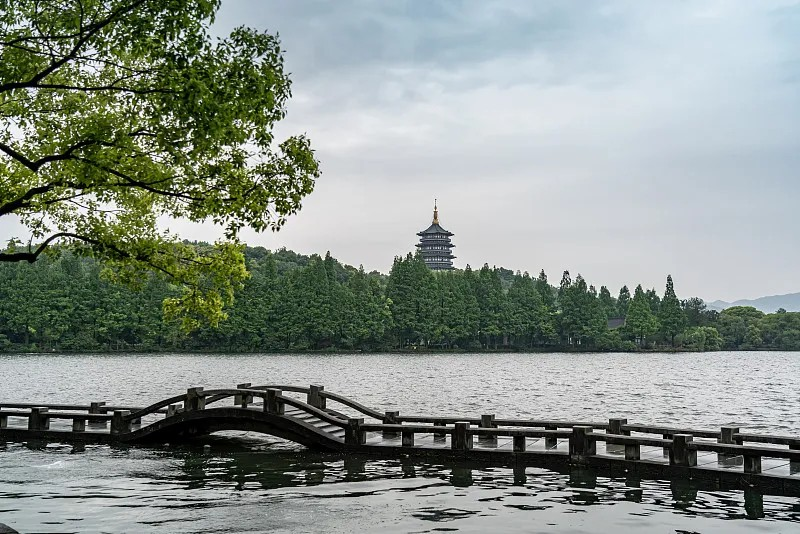Leifeng: (413, 196, 455, 278)
